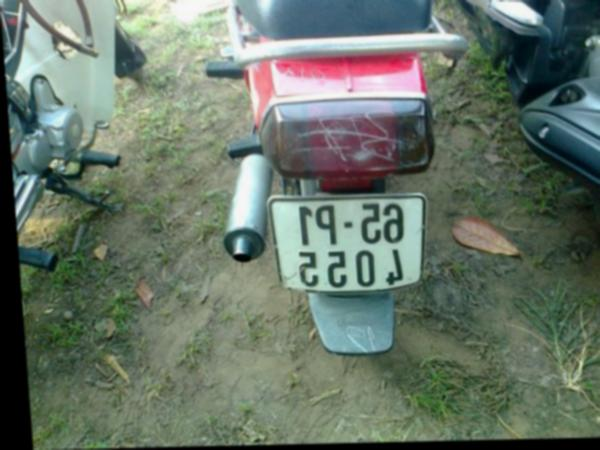License_Plate: (268, 192, 432, 293)
